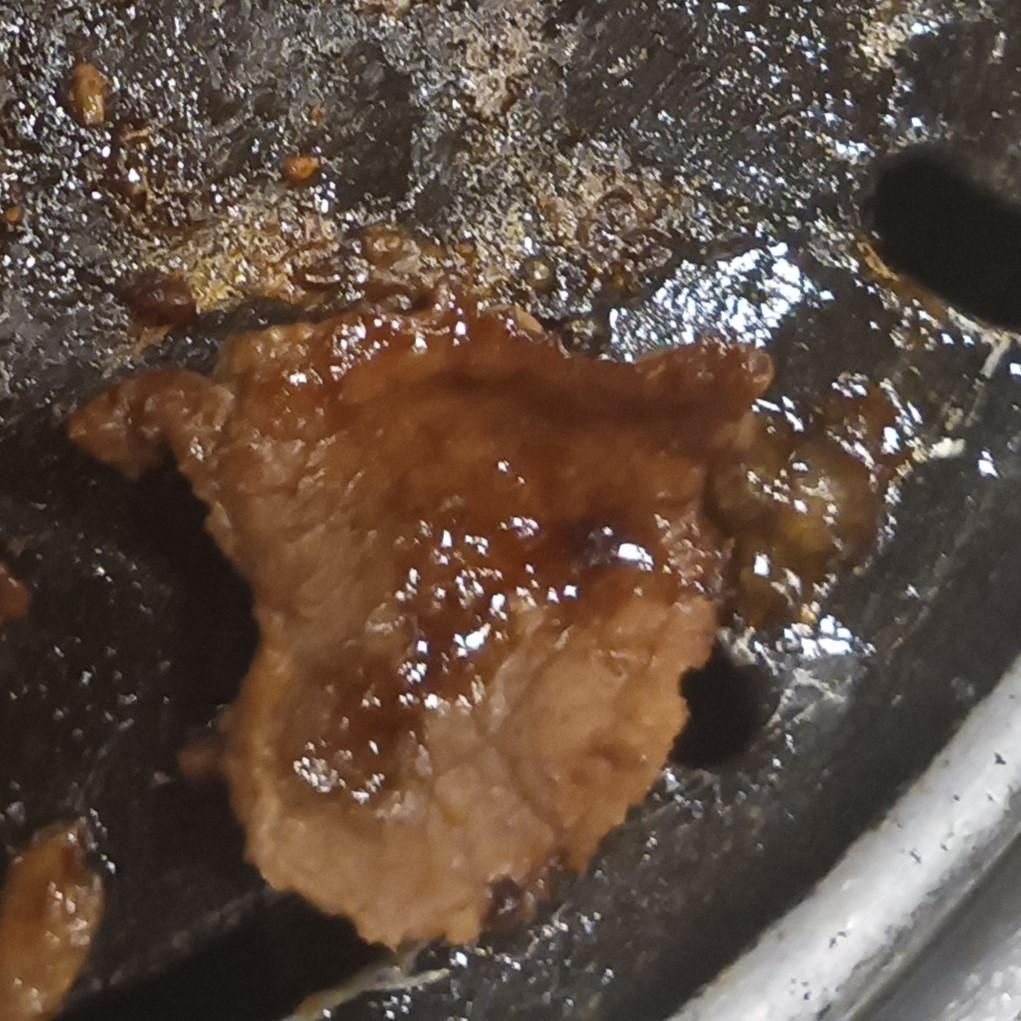Overcooked: (68, 305, 892, 954)
